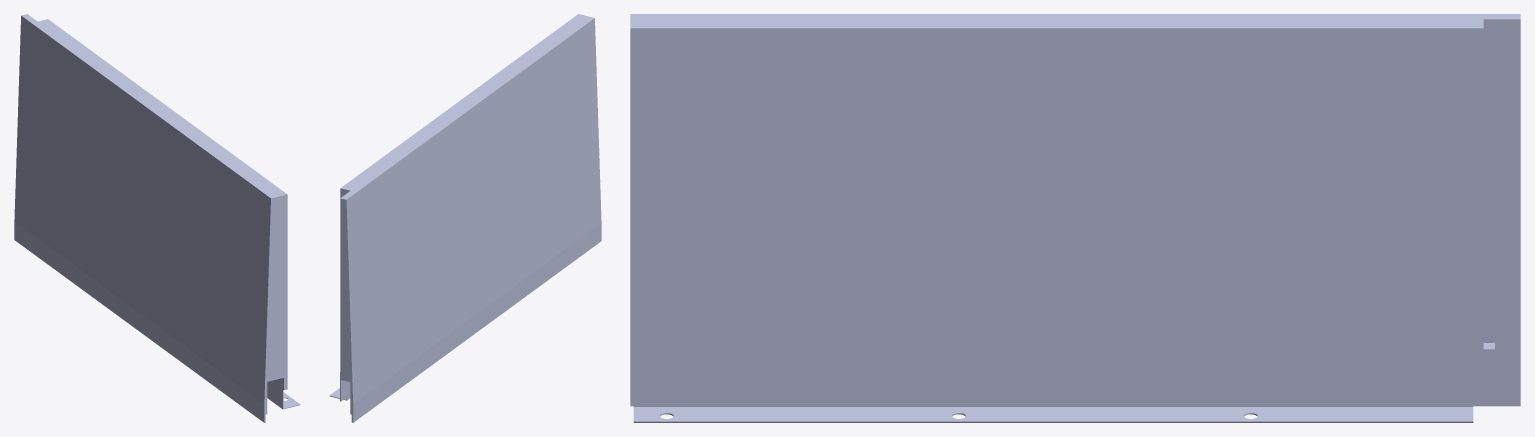
File: mv-kava-E400-p.glb
3 renders of one model, left to right at view 1: azimuth 30°, elevation 25°; view 2: azimuth 150°, elevation 25°; view 3: azimuth 270°, elevation 25°, orthographic. The views are drawn at different scales.
Visible parts, largest first — view 1: 48437355; view 2: 48437355; view 3: 48437355.
Part boxes in pixels (box(x1,y1,x2,y2)): 48437355: box(14, 14, 300, 422); 48437355: box(329, 14, 601, 422); 48437355: box(630, 14, 1520, 422).
Size of the model in its own units: 0.0335 by 0.192 by 0.3902.
